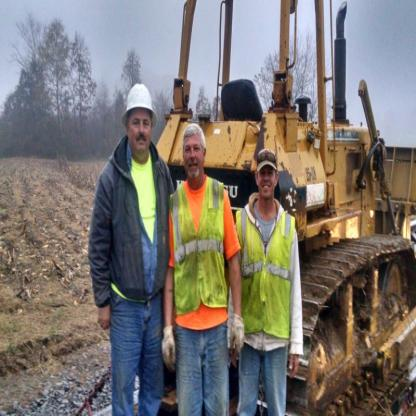person: (84, 76, 173, 415), (168, 113, 240, 414), (235, 142, 308, 413)
